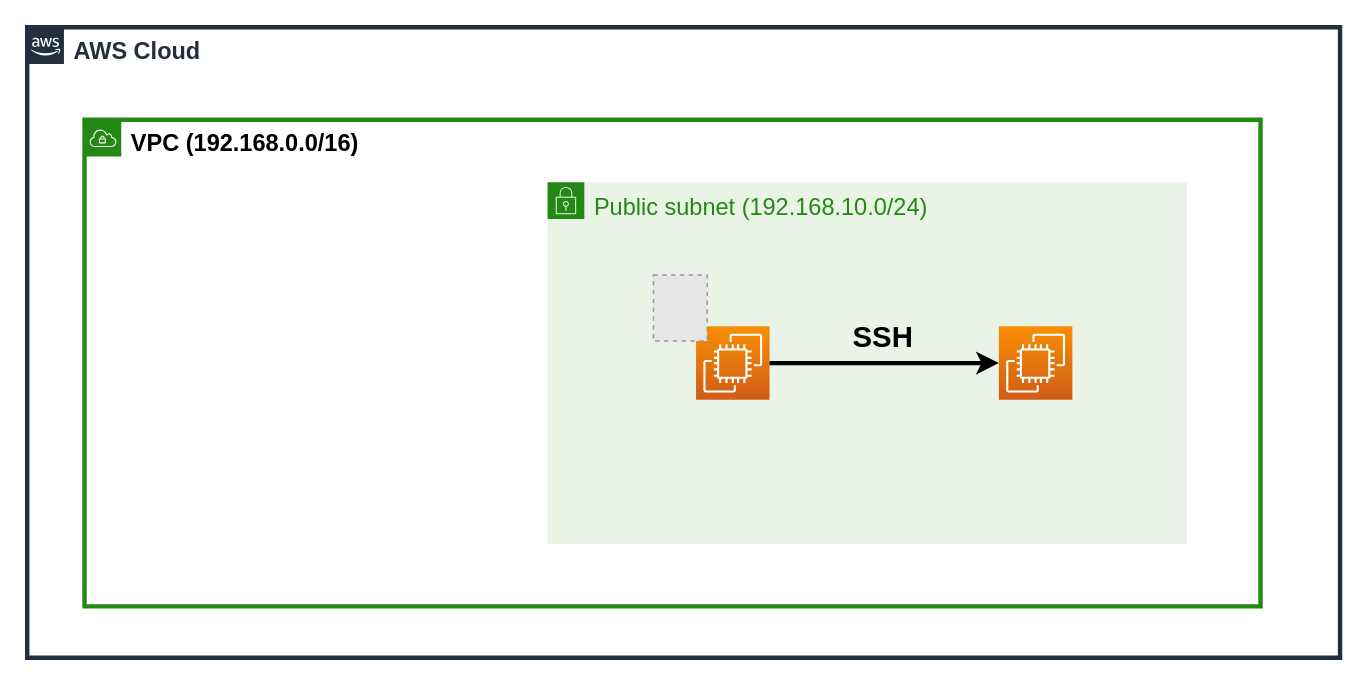
Some shapes in this 1369 by 685 pixel diagram are drawn without their labels. Grey dashed boxes stand in for pictures. The shapes that lost their labels are listed below. From the top down, each one's box as (x1, y1, x2, y2) in pixels, then its label:
(695, 325, 770, 400): Ansible Server
(997, 325, 1072, 400): Server01
